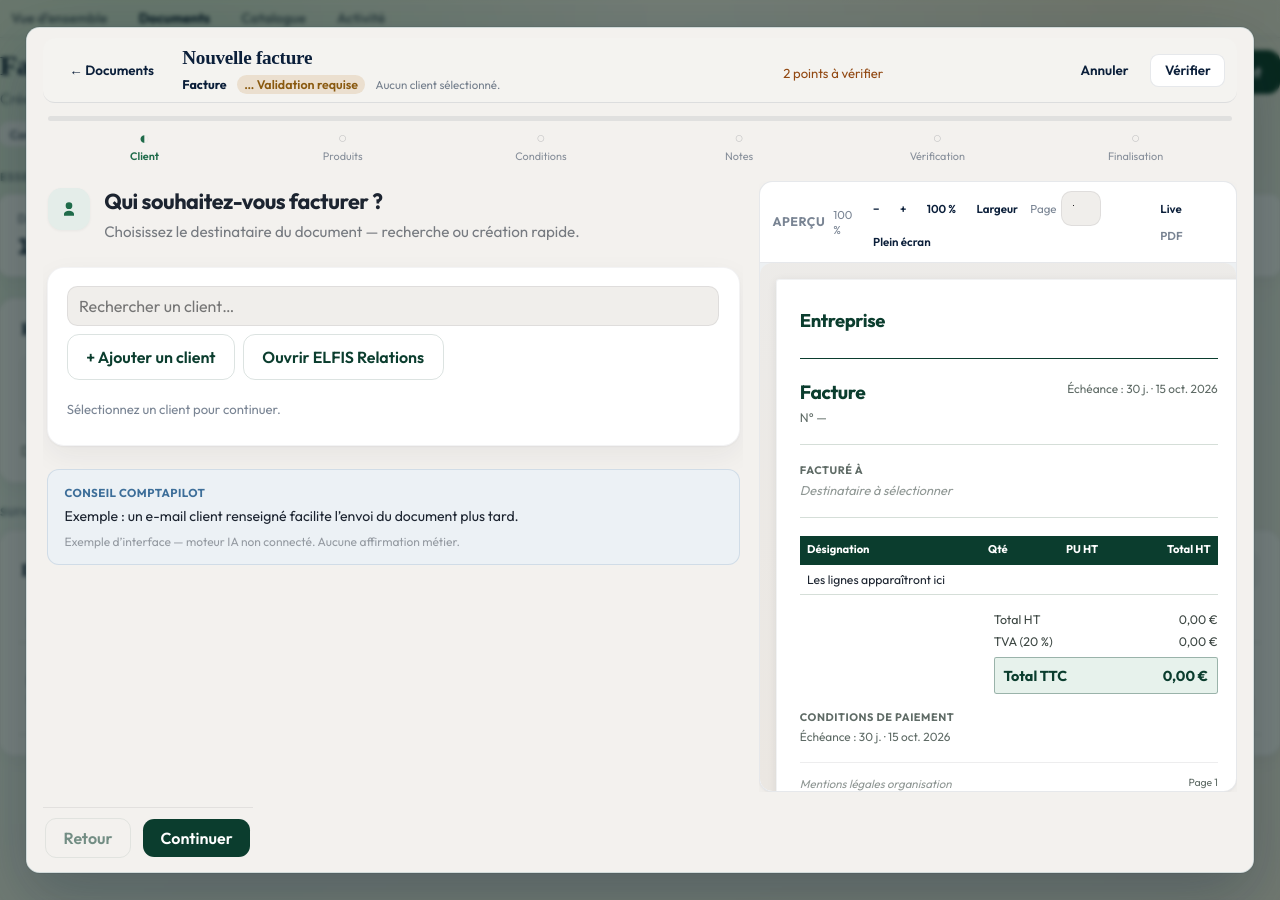
Test: CL11–CL20 Composer integration › CL12 — ouvre sous-modale Catalogue
Click the button "+ Ajouter un client" at (151, 357), box [67,334,235,380]
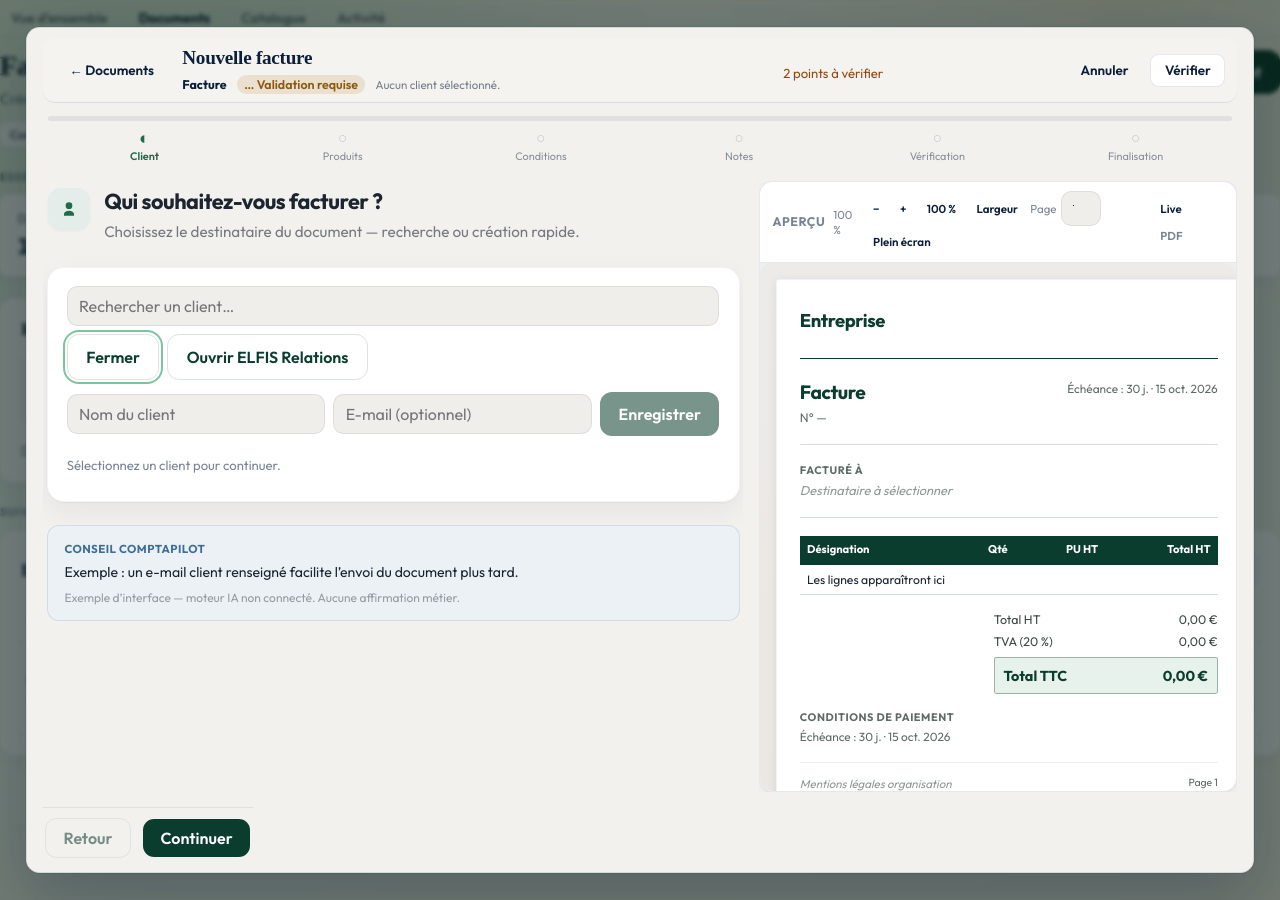
Type "Dupont SAS" into the field named "Nom du nouveau client" at (196, 414), box [67,394,326,434]
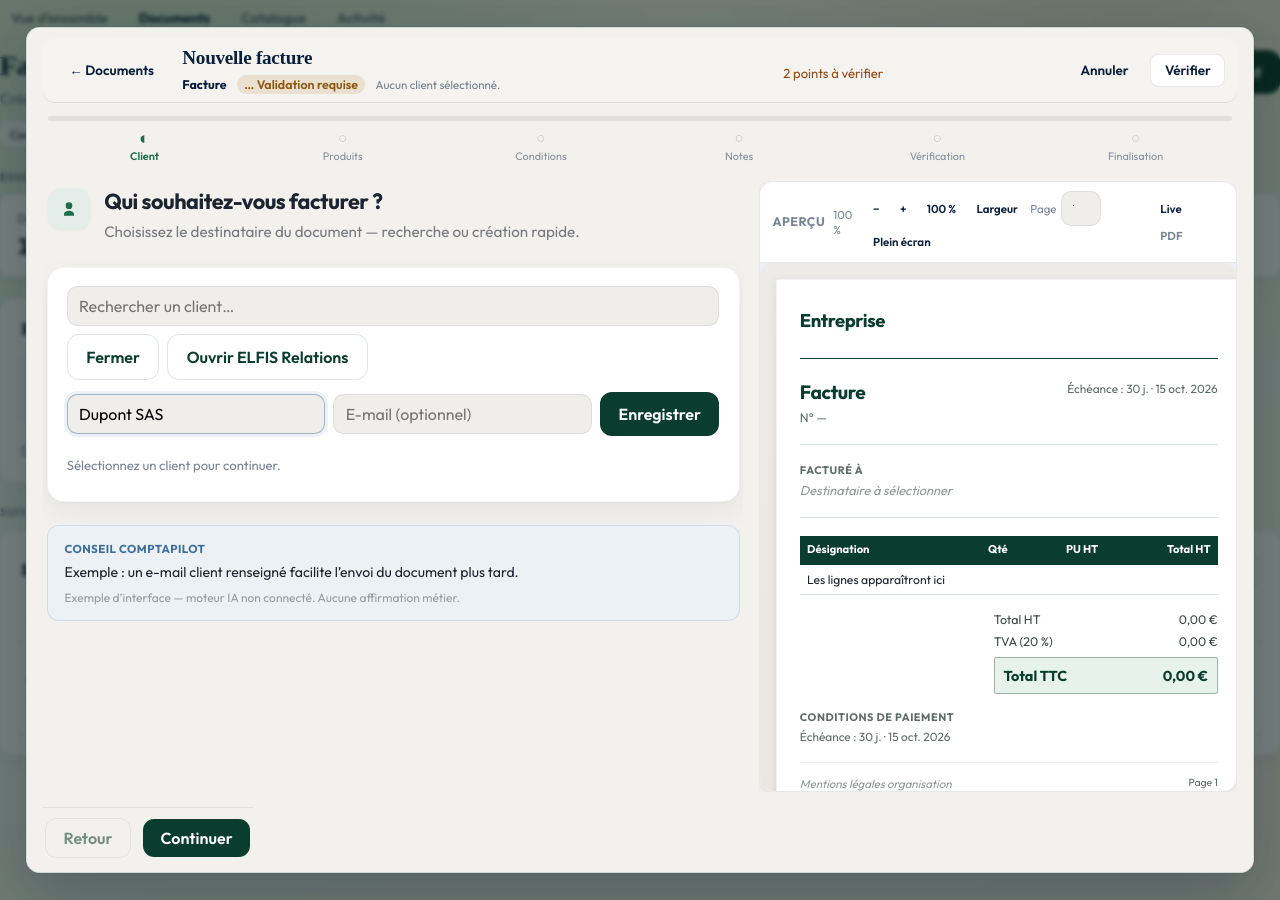
Click the button "Enregistrer" at (660, 414), box [600,392,719,436]
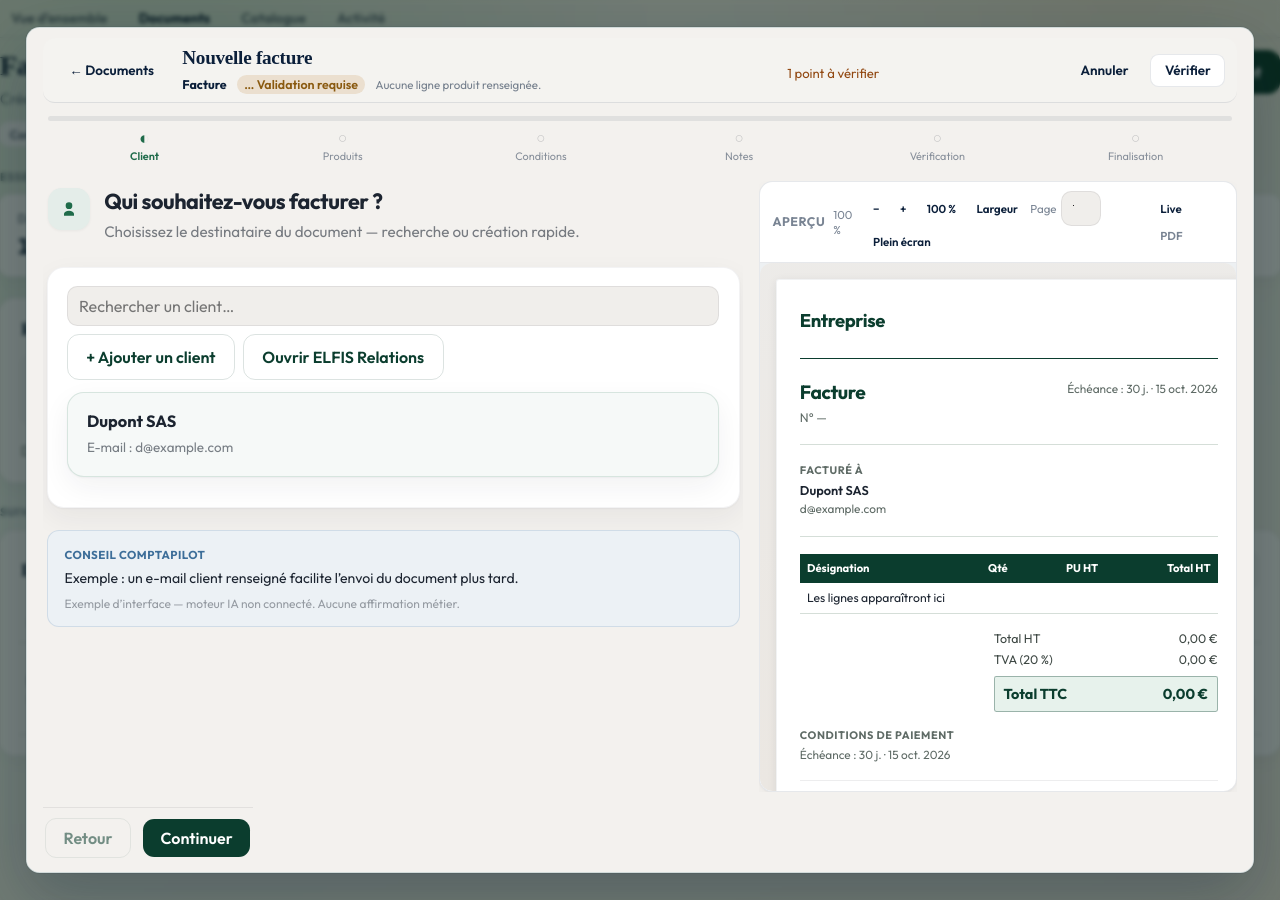
Click the button "Continuer" at (197, 838), box [143,819,250,857]
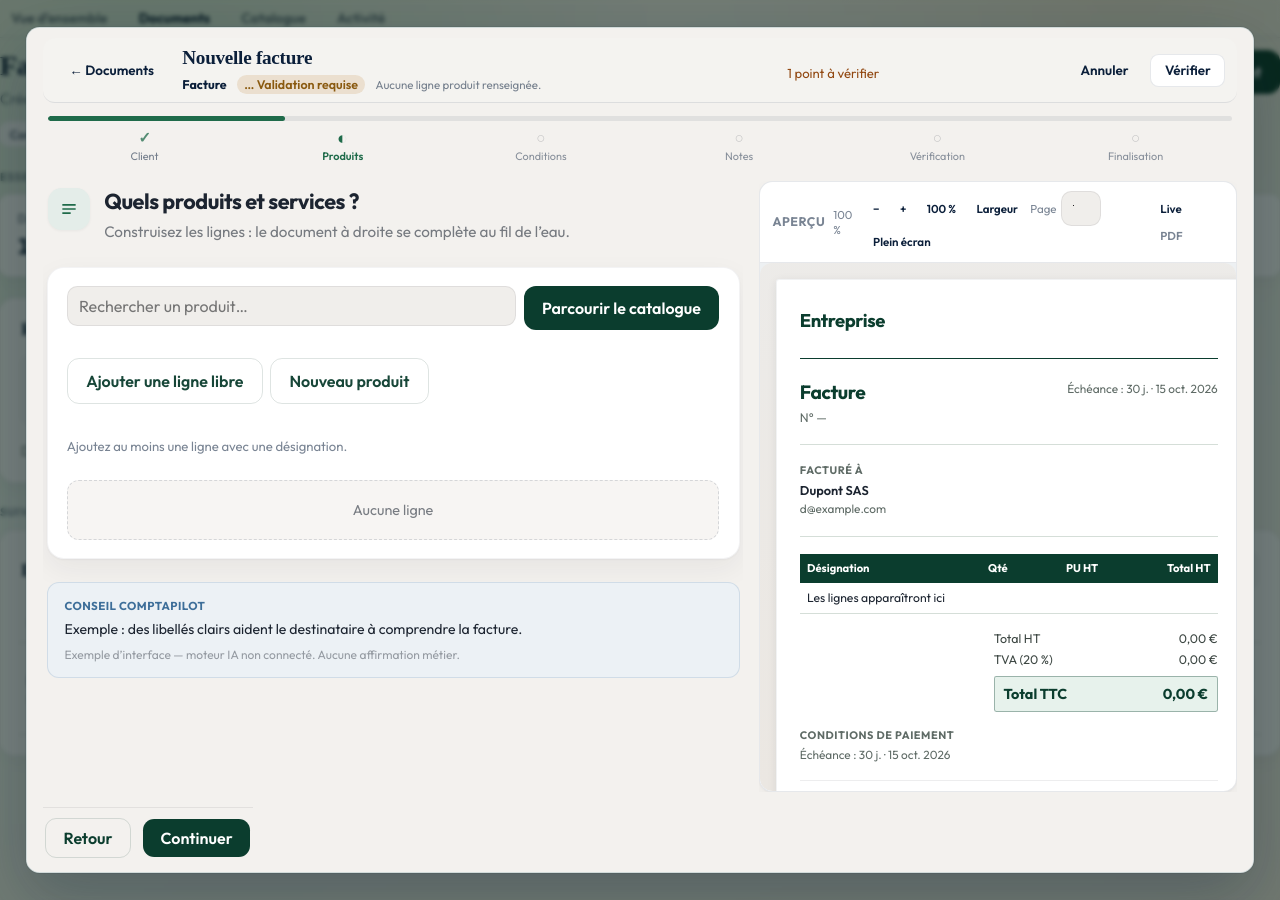
expect the heading "Quels produits et services ?" is shown: met, box [104,187,359,215]
Click the button "Parcourir le catalogue" at (621, 308), box [524,286,719,330]
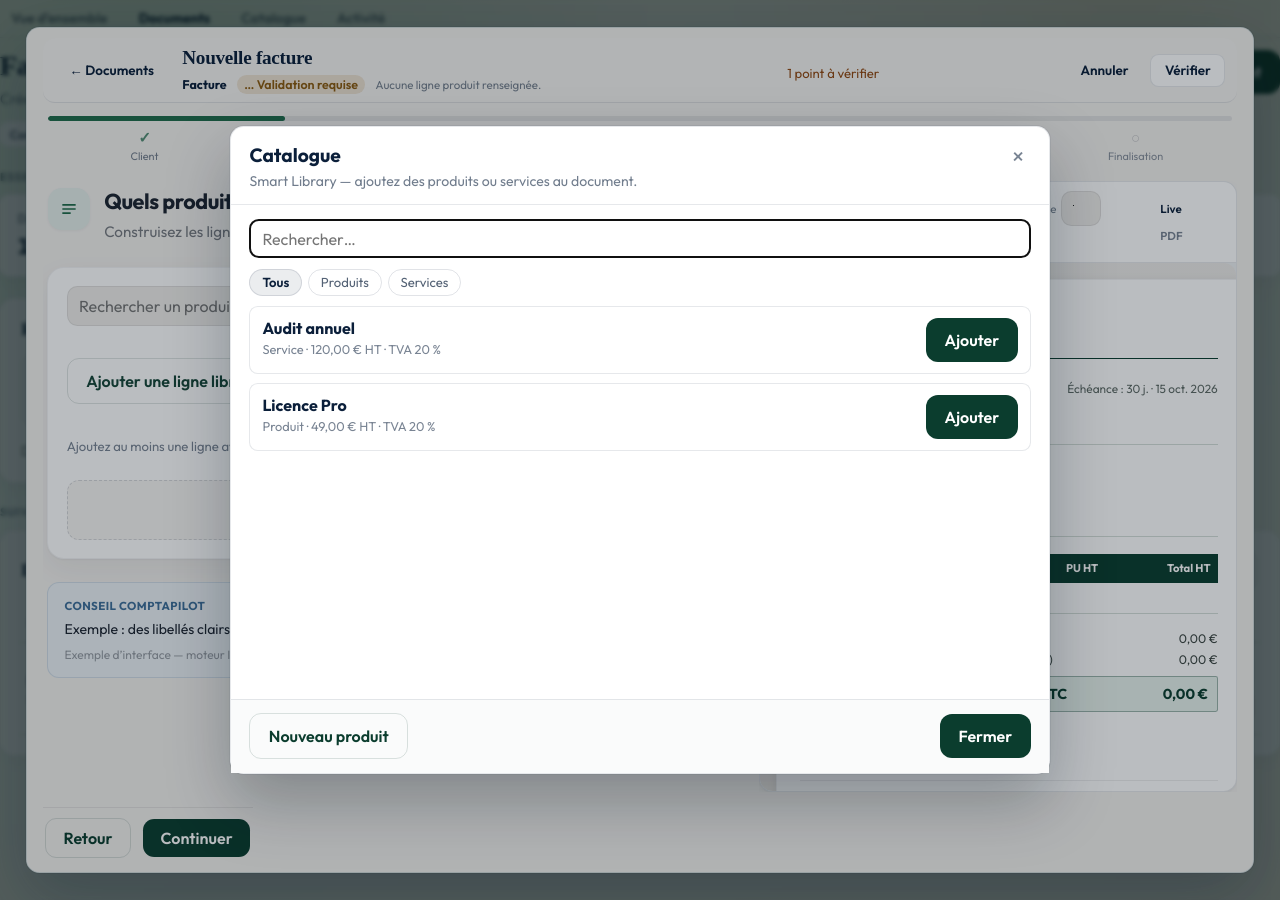
expect the heading "Catalogue" is shown: met, box [249,143,341,167]
